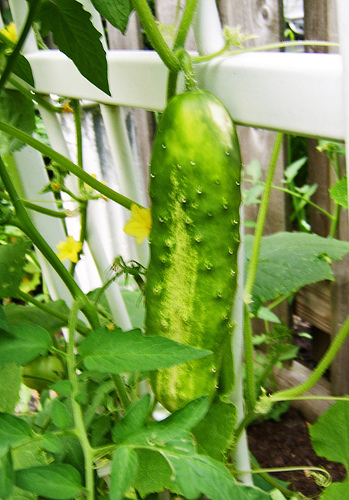cucumber: (143, 90, 242, 407)
